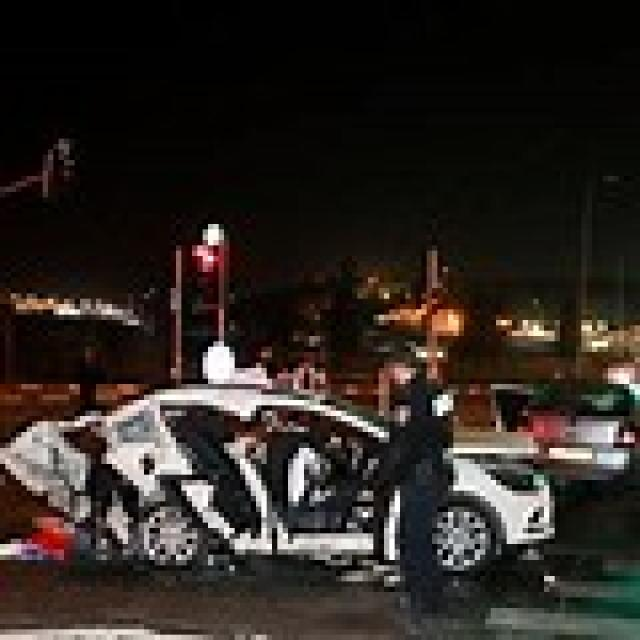single accident: (18, 338, 640, 613)
